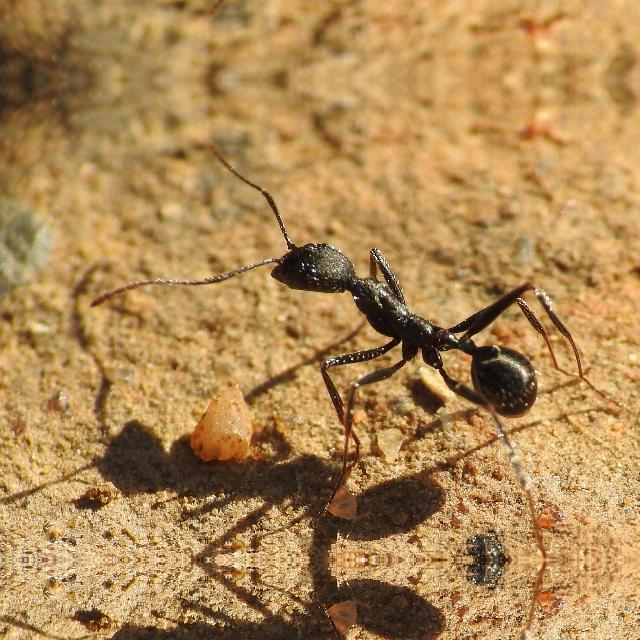Apheanogaster: (230, 206, 584, 438)
